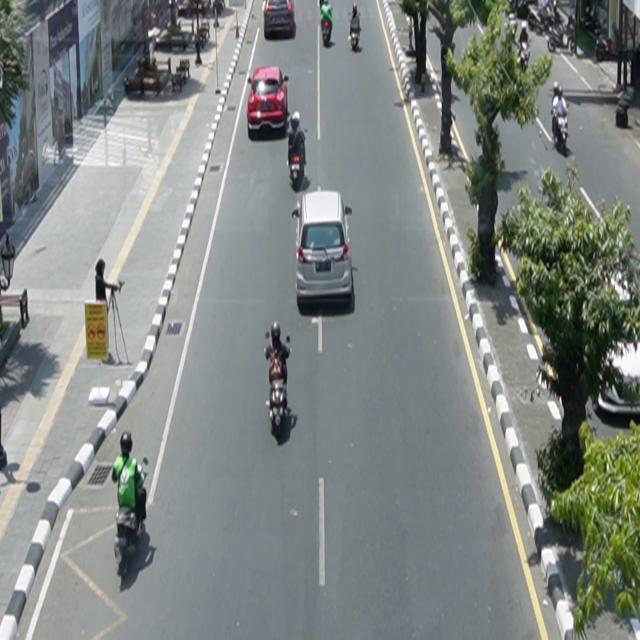car: (292, 189, 354, 308), (248, 66, 290, 137), (264, 1, 297, 40)
